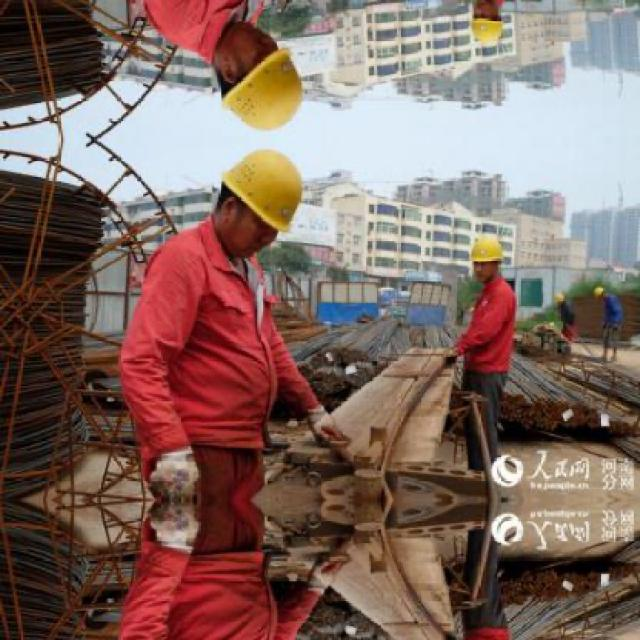helmet: (198, 140, 320, 258), (198, 20, 320, 138), (464, 228, 508, 283), (465, 0, 509, 51), (589, 283, 611, 300), (552, 286, 566, 305)
